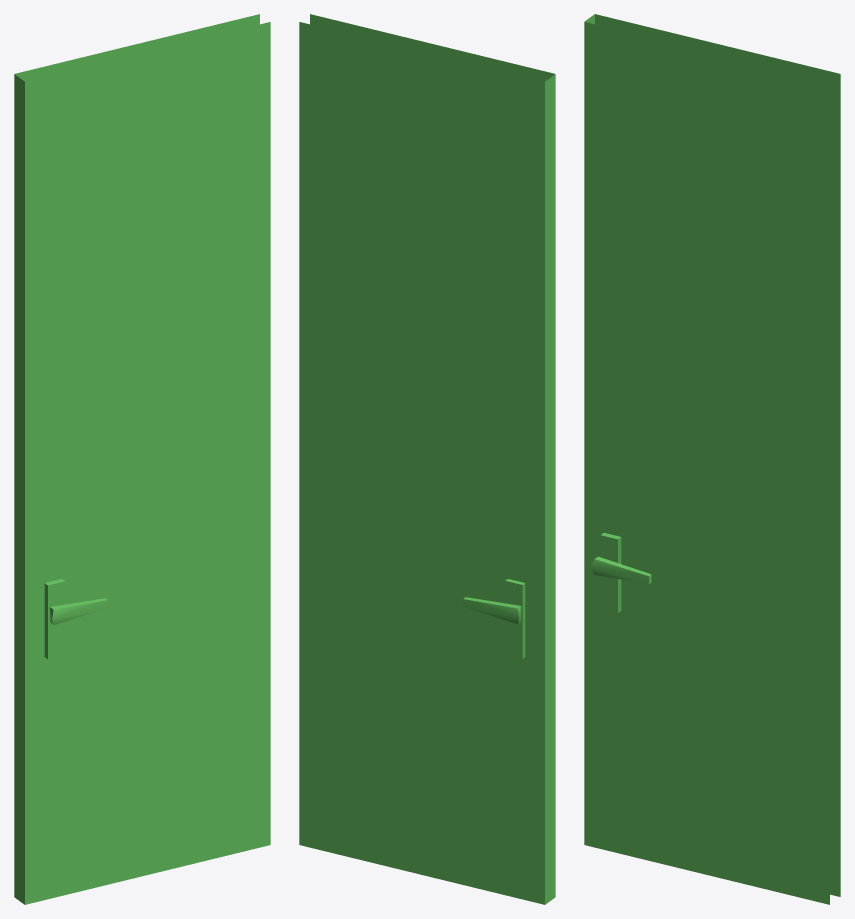
Rendered from Gen_Door_A_Fr_Side2.fbx.
3 views of the same model, side by side, from view 1: azimuth 30°, elevation 25°; view 2: azimuth 150°, elevation 25°; view 3: azimuth 330°, elevation 25° (orthographic).
Parts seen in each view (by area): view 1: Gen_Door_A_Fr_Side2; view 2: Gen_Door_A_Fr_Side2; view 3: Gen_Door_A_Fr_Side2.
Part boxes in pixels (x1=…): Gen_Door_A_Fr_Side2: x1=14, y1=14, x2=270, y2=904; Gen_Door_A_Fr_Side2: x1=299, y1=14, x2=555, y2=904; Gen_Door_A_Fr_Side2: x1=584, y1=14, x2=840, y2=904.
Size of the model in its own units: 100 by 320 by 21.32.
